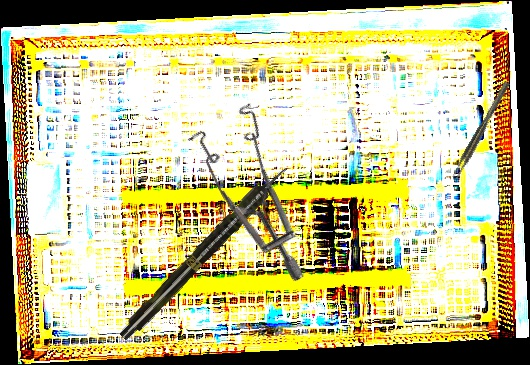Handpiece: (115, 160, 294, 345)
Speculum: (155, 85, 368, 285)
Tissue Forceps: (450, 81, 513, 180)
